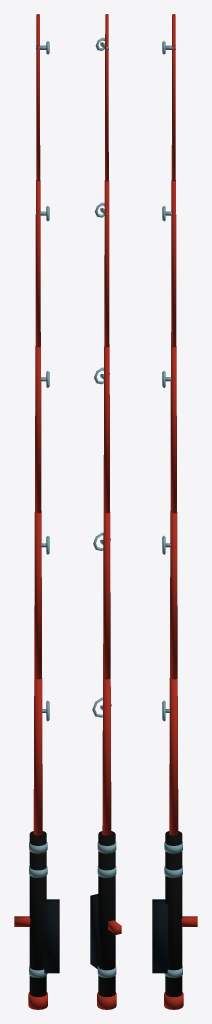
The model's file is casting_rod.glb.
3 views of the same model, side by side, from view 1: azimuth 90°, elevation 25°; view 2: azimuth 210°, elevation 25°; view 3: azimuth 270°, elevation 25° (orthographic).
Visible parts, largest first — view 1: casting_rod_Handle, casting_rod_Segment1, casting_rod_Segment2, casting_rod_Segment3, casting_rod_Segment4, casting_rod_Segment5; view 2: casting_rod_Handle, casting_rod_Segment1, casting_rod_Segment2, casting_rod_Segment3, casting_rod_Segment4, casting_rod_Segment5; view 3: casting_rod_Handle, casting_rod_Segment1, casting_rod_Segment2, casting_rod_Segment3, casting_rod_Segment4, casting_rod_Segment5.
Boxes of the visible parts, <box> form: casting_rod_Handle: <box>14,831,59,1009</box>; casting_rod_Segment1: <box>33,678,49,835</box>; casting_rod_Segment2: <box>34,512,49,679</box>; casting_rod_Segment3: <box>35,346,49,513</box>; casting_rod_Segment4: <box>35,180,49,347</box>; casting_rod_Segment5: <box>36,14,49,181</box>; casting_rod_Handle: <box>90,831,121,1009</box>; casting_rod_Segment1: <box>92,678,111,835</box>; casting_rod_Segment2: <box>93,512,110,679</box>; casting_rod_Segment3: <box>94,346,109,513</box>; casting_rod_Segment4: <box>95,180,109,347</box>; casting_rod_Segment5: <box>95,14,108,181</box>; casting_rod_Handle: <box>152,831,197,1009</box>; casting_rod_Segment1: <box>162,678,178,835</box>; casting_rod_Segment2: <box>162,512,177,679</box>; casting_rod_Segment3: <box>162,346,176,513</box>; casting_rod_Segment4: <box>162,180,176,347</box>; casting_rod_Segment5: <box>162,14,175,181</box>.
Size of the model in its own units: 0.042 by 2.03 by 0.0845.
1 material, 1 textured.
